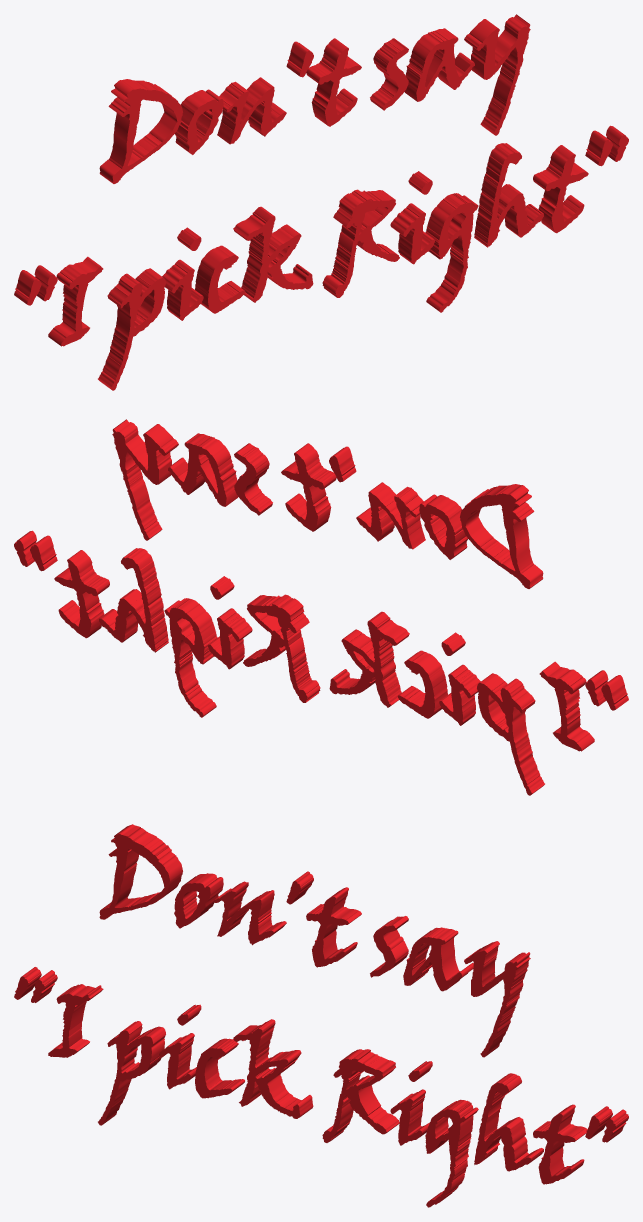
File: wallMessageLevel3.fbx
3 renders of one model, top to bottom at view 1: azimuth 30°, elevation 25°; view 2: azimuth 150°, elevation 25°; view 3: azimuth 330°, elevation 25°, orthographic.
Parts seen in each view (by area): view 1: node_id40 (×2); view 2: node_id40 (×2); view 3: node_id40 (×2).
Part boxes in pixels (x1,y1,x2,y2): node_id40 (×2): [14, 14, 628, 390]; node_id40 (×2): [14, 419, 628, 795]; node_id40 (×2): [14, 824, 628, 1207].
Bounding box in the file's own units: 0.5012 × 0.2375 × 0.0188.
